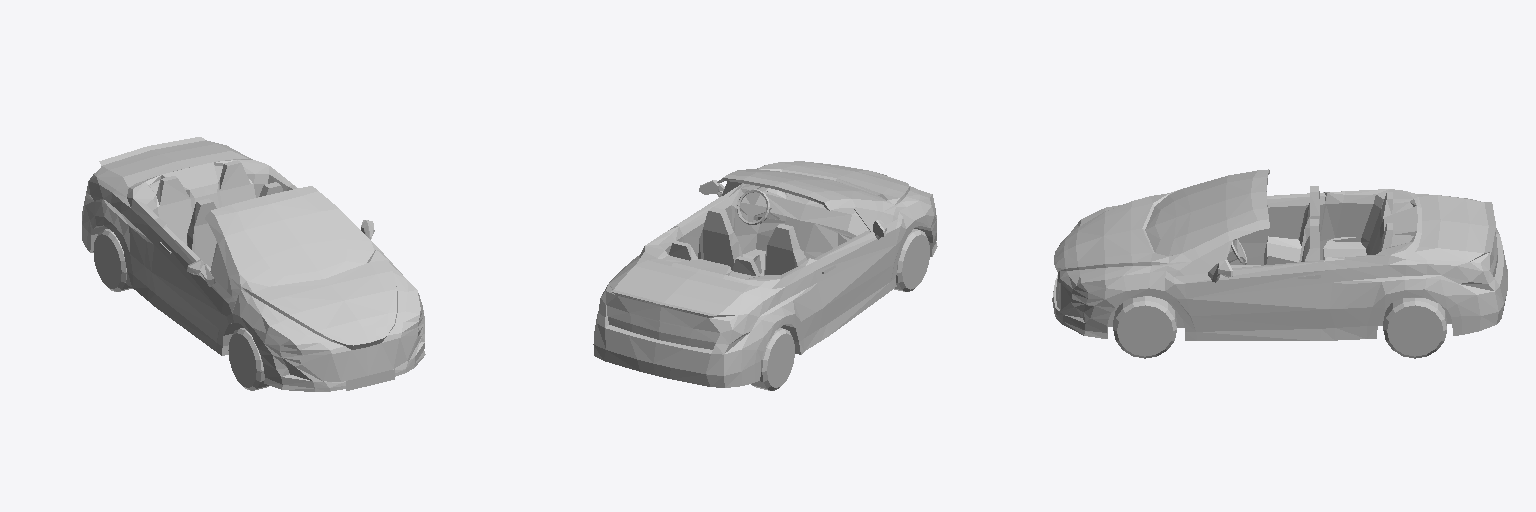
File: peugeot-308.obj
The picture shows the model from 3 angles: view 1: azimuth 30°, elevation 25°; view 2: azimuth 150°, elevation 25°; view 3: azimuth 270°, elevation 25°; orthographic projection.
Parts seen in each view (by area): view 1: car_Plane.001, car_Plane.008, car_Plane.009, car_Plane.002; view 2: car_Plane.001, car_Plane.012, car_Plane.009, car_Plane.008, car_Plane.002, steering_wheel_Torus.001; view 3: car_Plane.001, car_Plane.006, car_Plane.007, car_Plane.002, car_Plane.012.
Boxes of the visible parts, box(x1,y1,x2,y2) form: car_Plane.001: box(82, 137, 425, 391); car_Plane.008: box(228, 328, 268, 390); car_Plane.009: box(93, 229, 132, 291); car_Plane.002: box(187, 198, 216, 267); car_Plane.001: box(593, 161, 937, 387); car_Plane.012: box(698, 207, 761, 273); car_Plane.009: box(751, 328, 794, 390); car_Plane.008: box(894, 229, 929, 291); car_Plane.002: box(764, 224, 806, 274); steering_wheel_Torus.001: box(737, 189, 779, 224); car_Plane.001: box(1052, 169, 1507, 340); car_Plane.006: box(1113, 296, 1176, 358); car_Plane.007: box(1383, 298, 1446, 358); car_Plane.002: box(1264, 186, 1319, 264); car_Plane.012: box(1301, 219, 1319, 261).
Size of the model in its own units: 2.06 by 1.36 by 4.35.